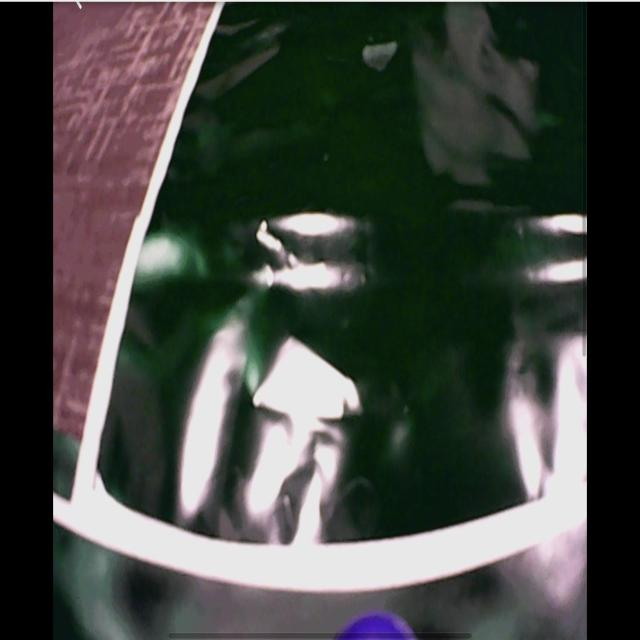ball: (338, 614, 418, 640)
